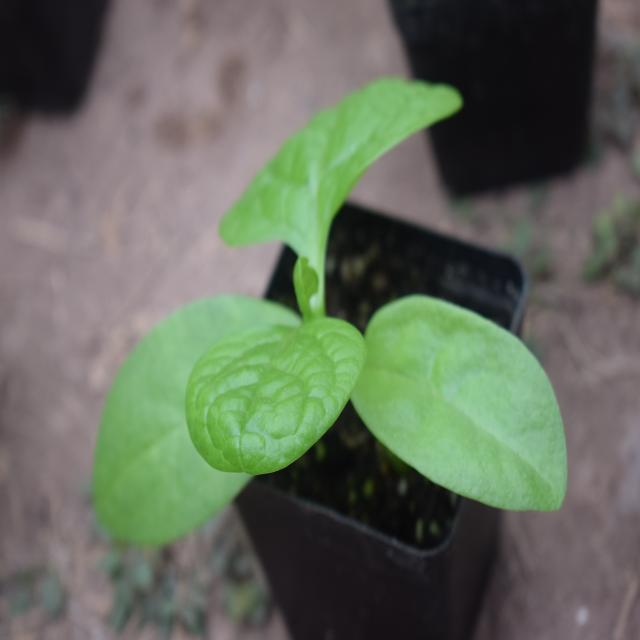Ceylon spinach: (96, 152, 586, 504)
